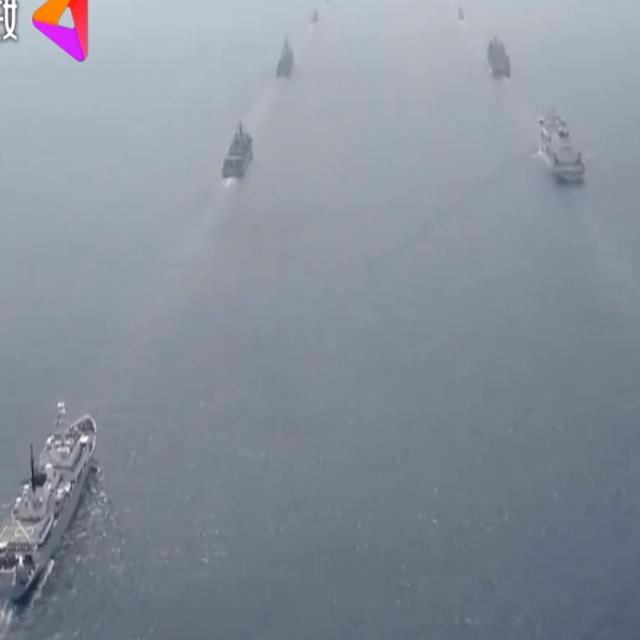navalvessels: (0, 397, 100, 613), (536, 110, 590, 189), (217, 120, 256, 188), (484, 31, 512, 79), (270, 34, 295, 82), (455, 6, 466, 25), (310, 9, 321, 26)
